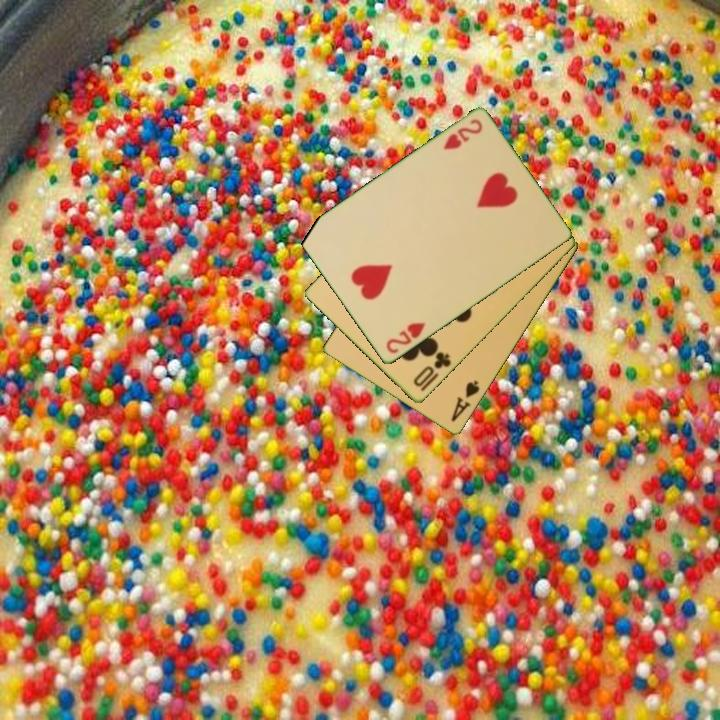10c: (410, 348, 454, 390)
2h: (382, 319, 428, 357), (439, 116, 485, 153)
As: (447, 377, 483, 425)
